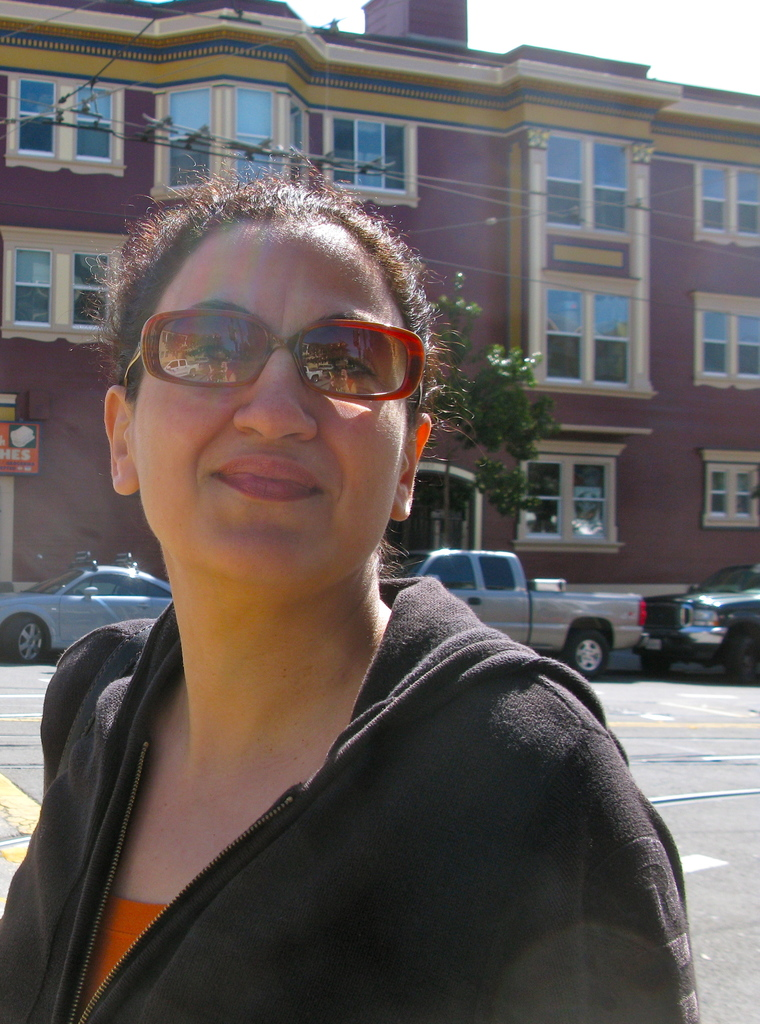Car: (0, 555, 175, 661), (634, 549, 759, 691)
